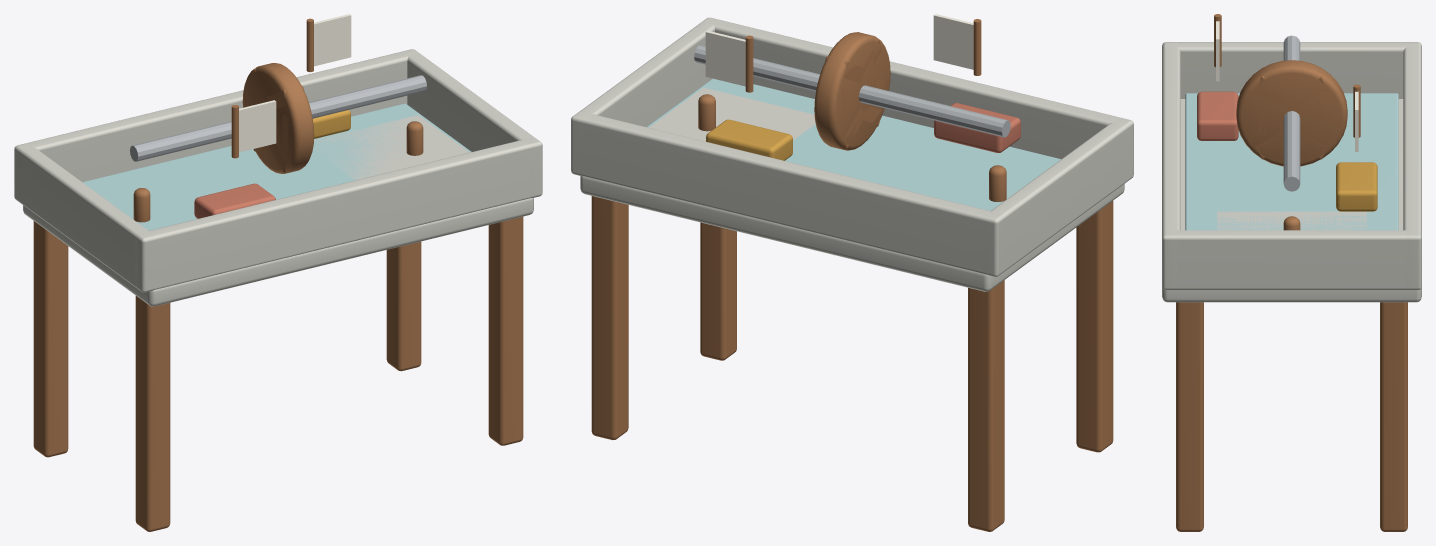
The model's file is game_water_table.glb.
3 views of the same model, side by side, from view 1: azimuth 30°, elevation 25°; view 2: azimuth 150°, elevation 25°; view 3: azimuth 270°, elevation 25° (orthographic). The views are drawn at different scales.
Visible parts, largest first — view 1: Tint.031, Water, Table leg.005, Table leg.007, Table leg.004, Table leg.006, Water wheel, Wheel axle, Toy boat sail, Toy boat sail.001, Toy boat hull, Toy boat hull.001; view 2: Tint.031, Water, Table leg.006, Table leg.005, Table leg.004, Water wheel, Table leg.007, Wheel axle, Toy boat hull.001, Toy boat sail, Toy boat sail.001, Toy boat hull; view 3: Tint.031, Water, Water wheel, Table leg.006, Table leg.007, Toy boat hull.001, Toy boat hull, Wheel axle, Wheel paddle.
Part boxes in pixels (<box>): Tint.031: <box>14,49,542,306</box>; Water: <box>82,103,471,230</box>; Table leg.005: <box>135,296,170,531</box>; Table leg.007: <box>488,216,523,445</box>; Table leg.004: <box>33,221,68,457</box>; Table leg.006: <box>386,241,421,371</box>; Water wheel: <box>242,63,314,173</box>; Wheel axle: <box>130,75,426,161</box>; Toy boat sail: <box>239,100,276,152</box>; Toy boat sail.001: <box>314,14,351,66</box>; Toy boat hull: <box>194,183,275,218</box>; Toy boat hull.001: <box>313,110,350,138</box>; Tint.031: <box>571,17,1133,291</box>; Water: <box>646,78,1060,210</box>; Table leg.006: <box>591,196,628,440</box>; Table leg.005: <box>1076,201,1113,452</box>; Table leg.004: <box>968,280,1004,531</box>; Water wheel: <box>814,32,890,150</box>; Table leg.007: <box>700,222,736,360</box>; Wheel axle: <box>694,45,1010,137</box>; Toy boat hull.001: <box>706,119,792,160</box>; Toy boat sail: <box>933,14,973,69</box>; Toy boat sail.001: <box>705,30,745,86</box>; Toy boat hull: <box>934,103,1020,152</box>; Tint.031: <box>1162,42,1421,302</box>; Water: <box>1185,93,1398,230</box>; Water wheel: <box>1236,60,1347,166</box>; Table leg.006: <box>1380,302,1407,531</box>; Table leg.007: <box>1176,302,1203,531</box>; Toy boat hull.001: <box>1336,162,1377,211</box>; Toy boat hull: <box>1197,91,1238,140</box>; Wheel axle: <box>1283,35,1300,191</box>; Wheel paddle: <box>1252,101,1266,135</box>.
Size of the model in its own units: 1 by 0.92 by 0.56.
